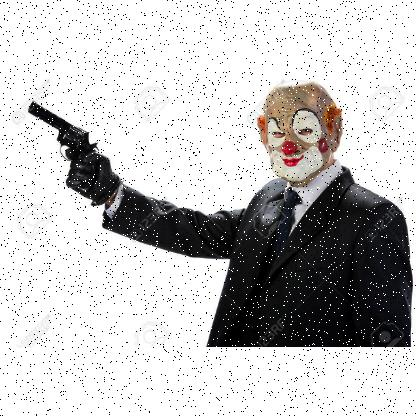gun: (23, 99, 97, 195)
